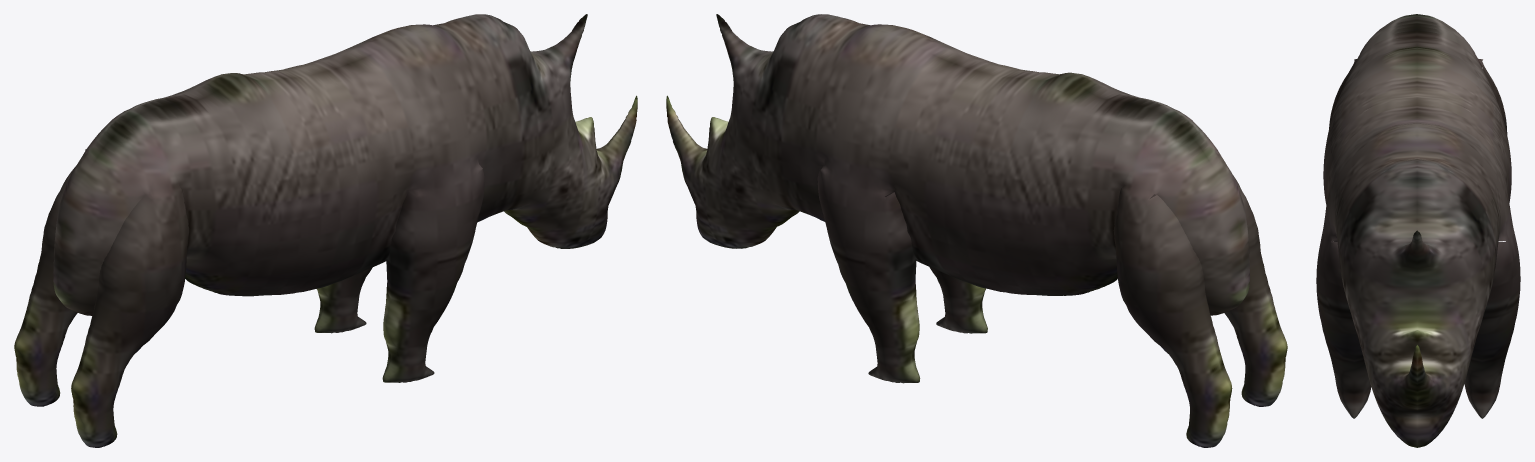
Rendered from badak jawa.glb.
The picture shows the model from 3 angles, left to right: view 1: azimuth 30°, elevation 25°; view 2: azimuth 150°, elevation 25°; view 3: azimuth 270°, elevation 25°; orthographic projection. The views are drawn at different scales.
Bounding box in the file's own units: 8.33 × 4.22 × 2.63.
Materials: 1 (1 with a texture image).
